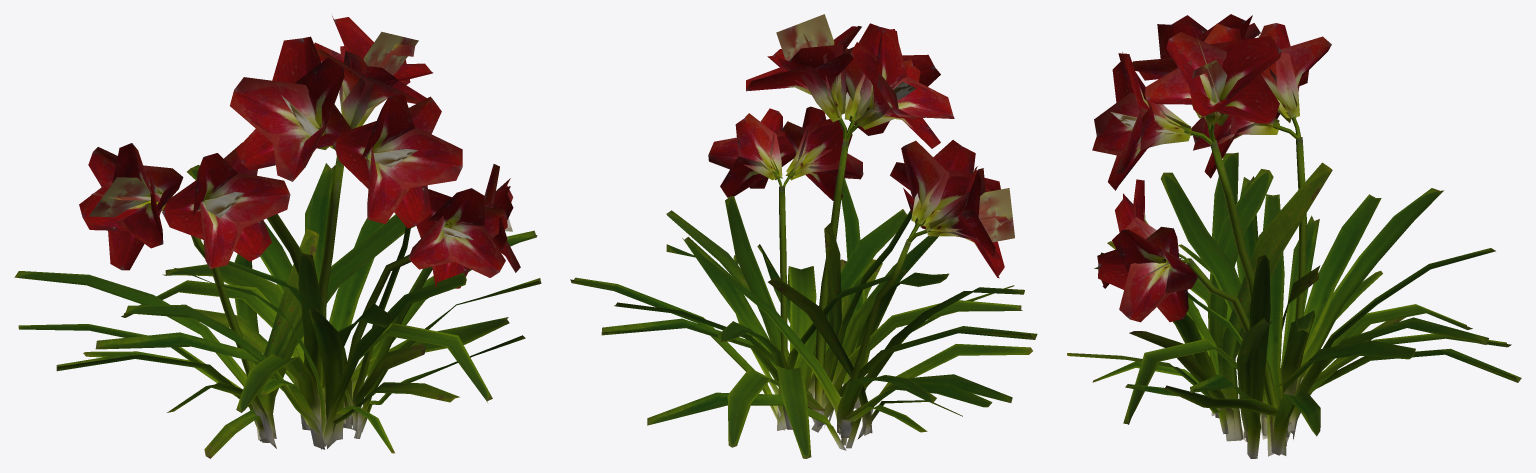
File: Amaryllis_bush_short_red.glb
3 renders of one model, left to right at view 1: azimuth 30°, elevation 25°; view 2: azimuth 150°, elevation 25°; view 3: azimuth 270°, elevation 25°, orthographic. The views are drawn at different scales.
Visible parts, largest first — view 1: bush; view 2: bush; view 3: bush.
Boxes of the visible parts, bbox=[...] form: bush: bbox=[14, 16, 541, 458]; bush: bbox=[570, 14, 1037, 458]; bush: bbox=[1067, 14, 1521, 458].
Size of the model in its own units: 2.76 by 2.32 by 2.27.
Materials: 1 (1 with a texture image).
